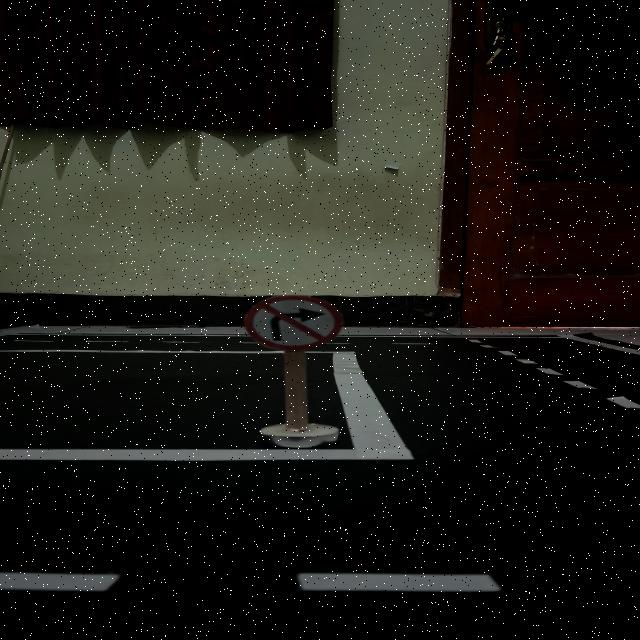Dilarang Belok Kanan: (244, 294, 343, 351)
